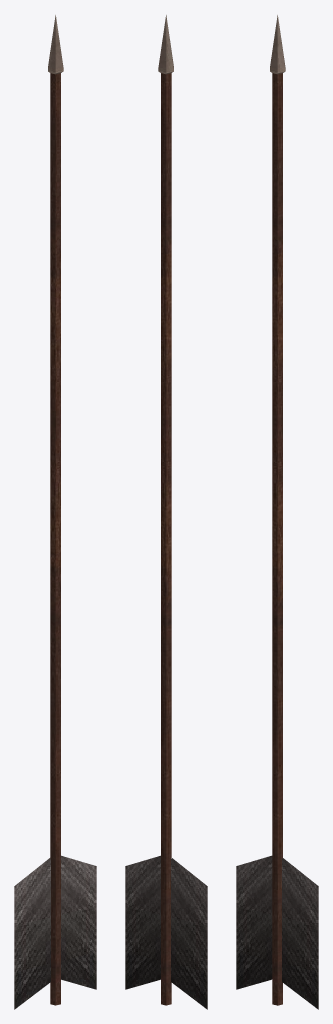
File: natural-arrow-source.glb
The picture shows the model from 3 angles, left to right: view 1: azimuth 30°, elevation 25°; view 2: azimuth 150°, elevation 25°; view 3: azimuth 330°, elevation 25°; orthographic projection.
Visible parts, largest first — view 1: natural-arrow-source runtime mesh; view 2: natural-arrow-source runtime mesh; view 3: natural-arrow-source runtime mesh.
Boxes of the visible parts, x1=… form: natural-arrow-source runtime mesh: x1=14, y1=15, x2=96, y2=1009; natural-arrow-source runtime mesh: x1=125, y1=15, x2=207, y2=1009; natural-arrow-source runtime mesh: x1=236, y1=15, x2=318, y2=1009.
Bounding box in the file's own units: 0.0629 × 0.72 × 0.0103.
Materials: 1 (1 with a texture image).
